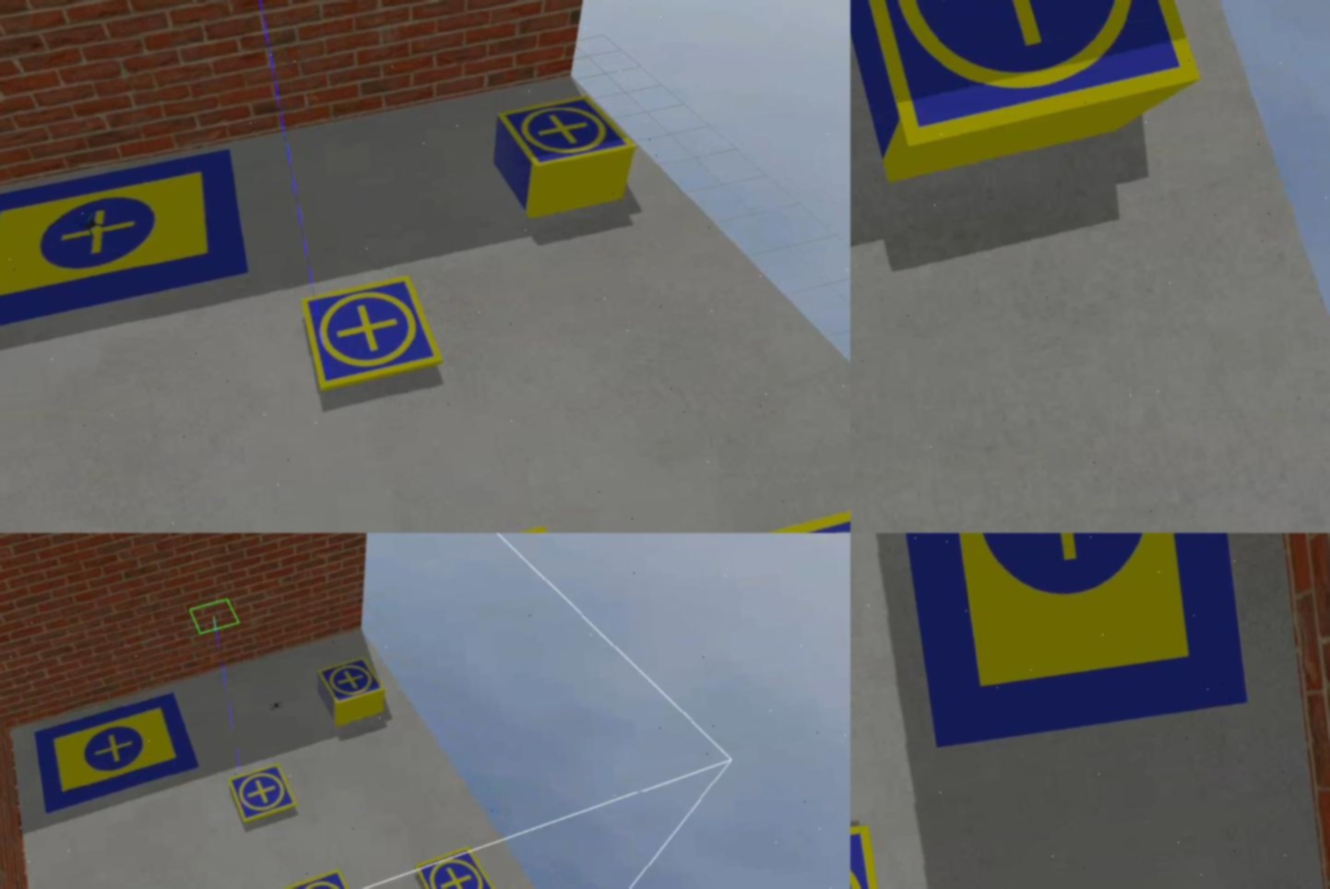large_base: (892, 534, 1252, 749), (1, 149, 256, 339), (33, 691, 204, 813)
small_base: (850, 1, 1211, 151), (300, 273, 445, 395), (495, 89, 639, 175), (226, 762, 301, 831), (744, 497, 850, 534), (415, 847, 507, 889), (318, 657, 391, 708), (285, 869, 368, 889)
